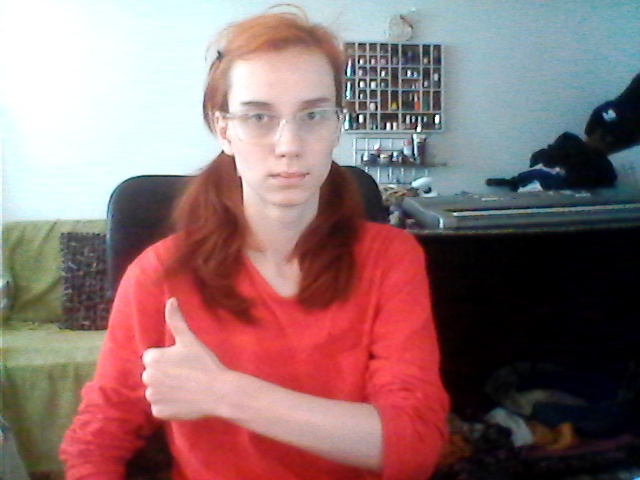jeden: (130, 295, 231, 423)
